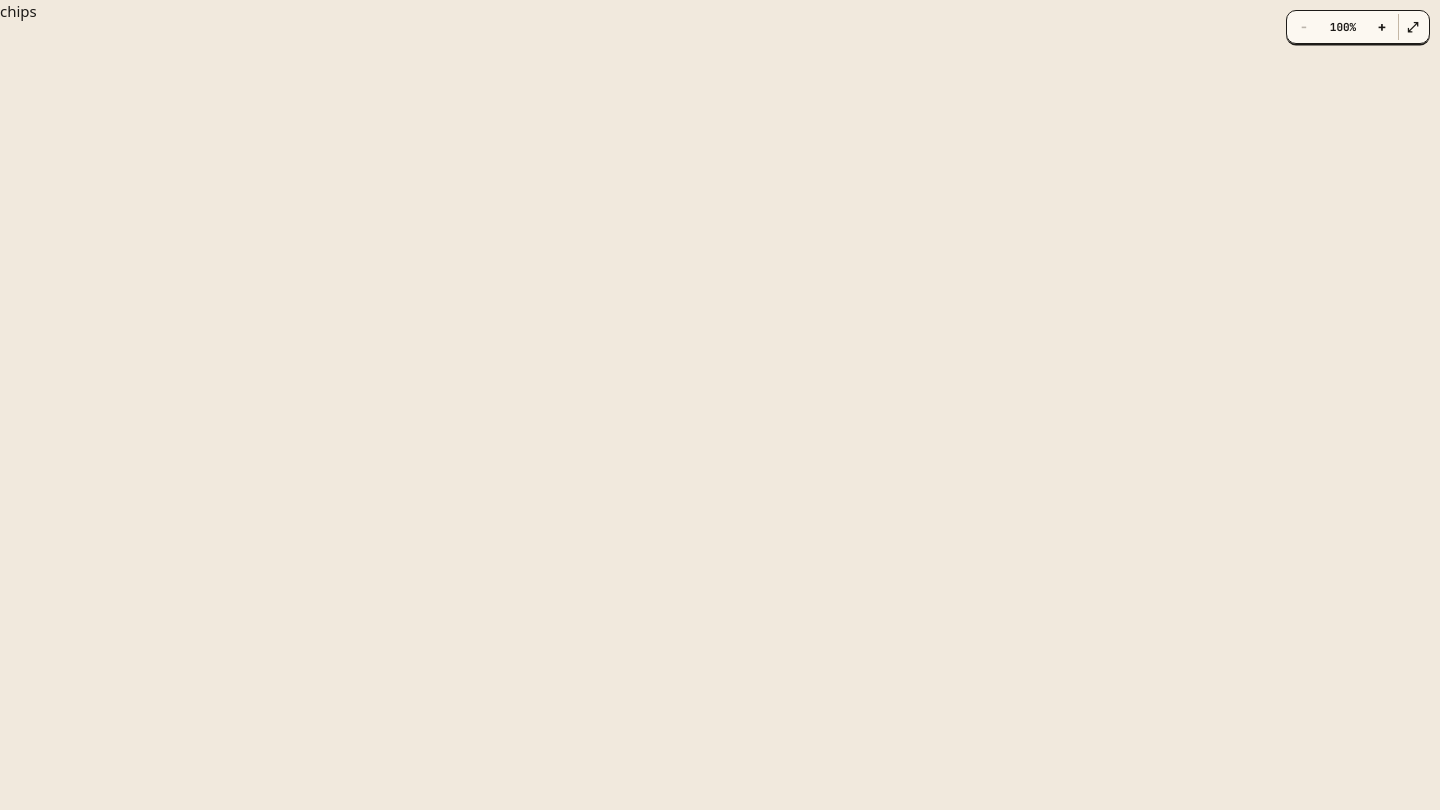
Test: ZoomStage › without the API it fills the window, and Escape closes it
This screenshot has width=1440, height=810.
Click the button named "Full screen" at (1412, 27), box [1398, 14, 1426, 40]
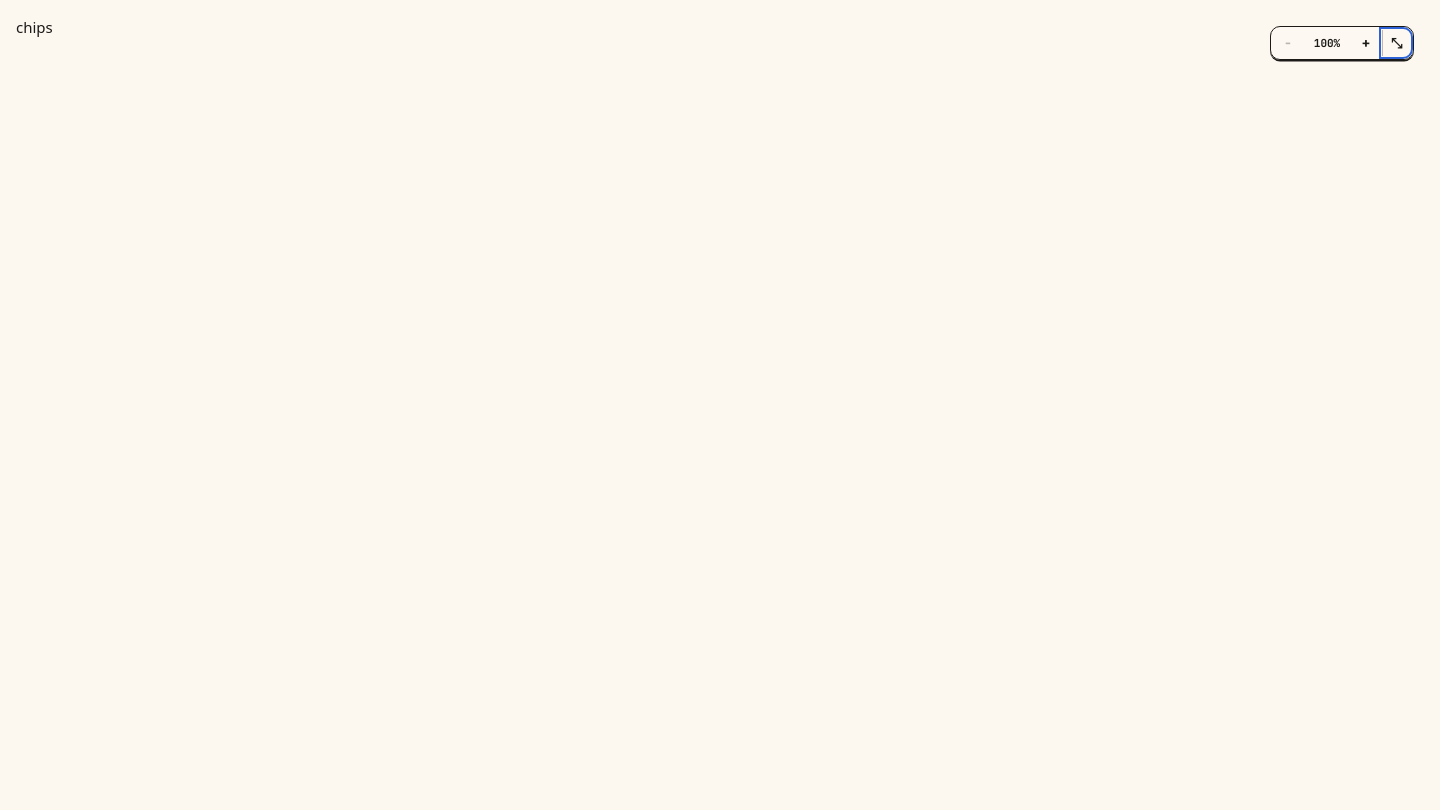
Result: the element showing "chips − 100% + ⤡" has attribute data-expanded="true"
Press Escape
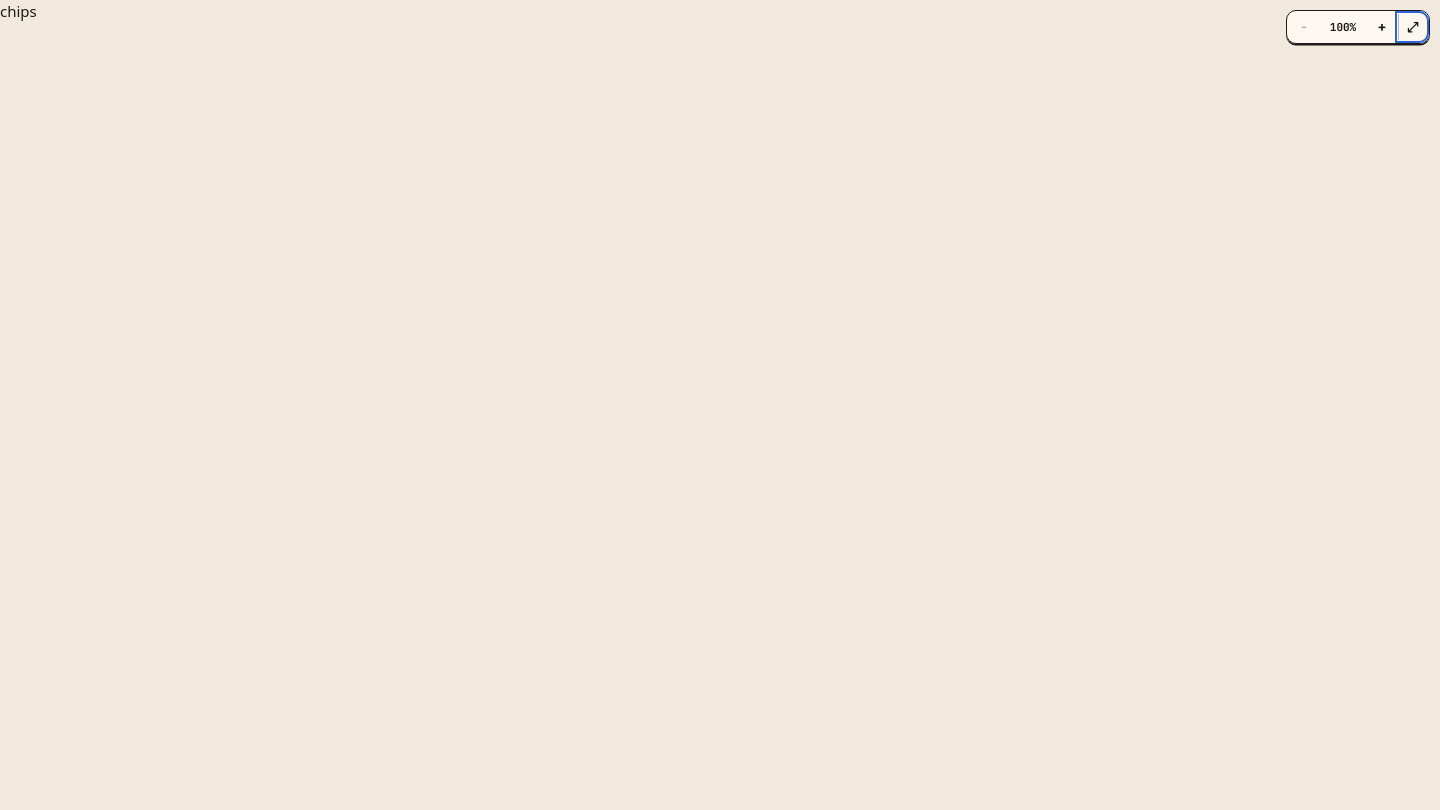
Result: the element showing "chips − 100% + ⤢" has attribute data-expanded="false"
